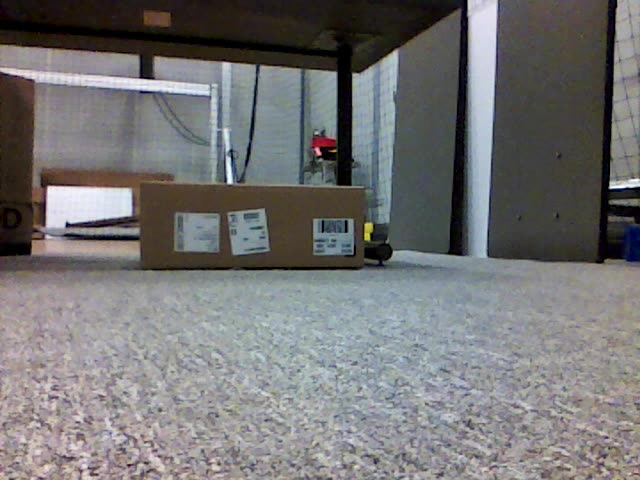box: (140, 182, 366, 269), (1, 72, 34, 255)
